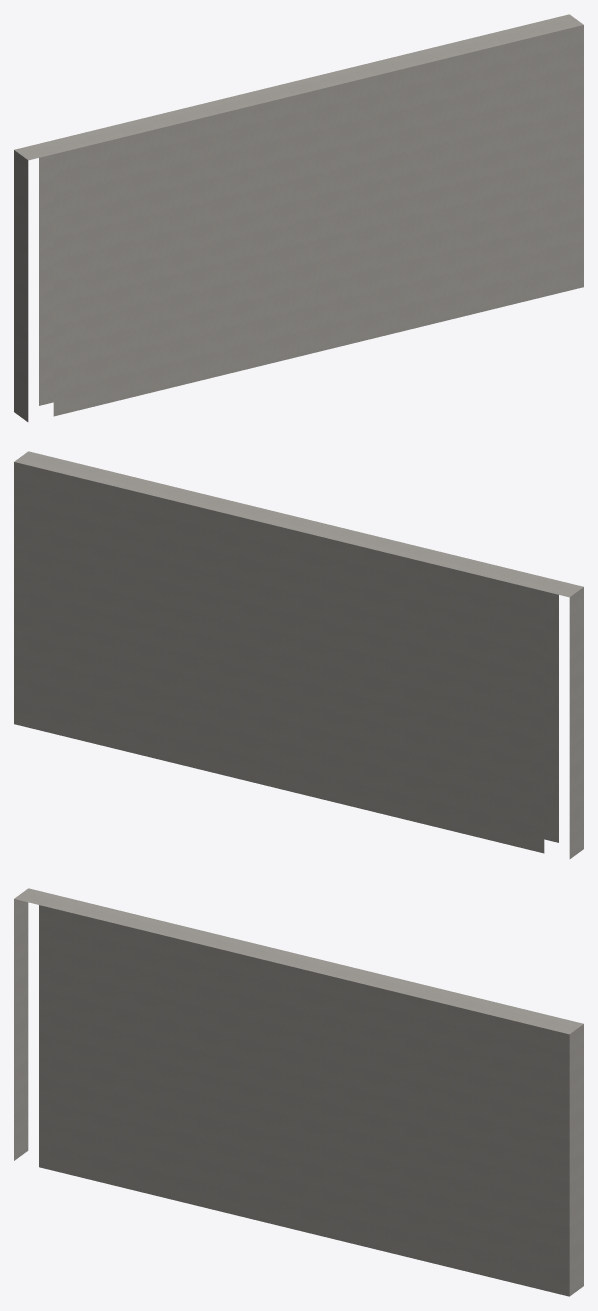
The model's file is WallE.obj.
3 renders of one model, top to bottom at view 1: azimuth 30°, elevation 25°; view 2: azimuth 150°, elevation 25°; view 3: azimuth 330°, elevation 25°, orthographic.
Visible parts, largest first — view 1: Box011; view 2: Box011; view 3: Box011.
Boxes of the visible parts, box(x1,y1,x2,y2) form: Box011: box(14, 14, 583, 421); Box011: box(14, 451, 583, 858); Box011: box(14, 888, 583, 1296).
Size of the model in its own units: 262 by 118 by 11.81.
